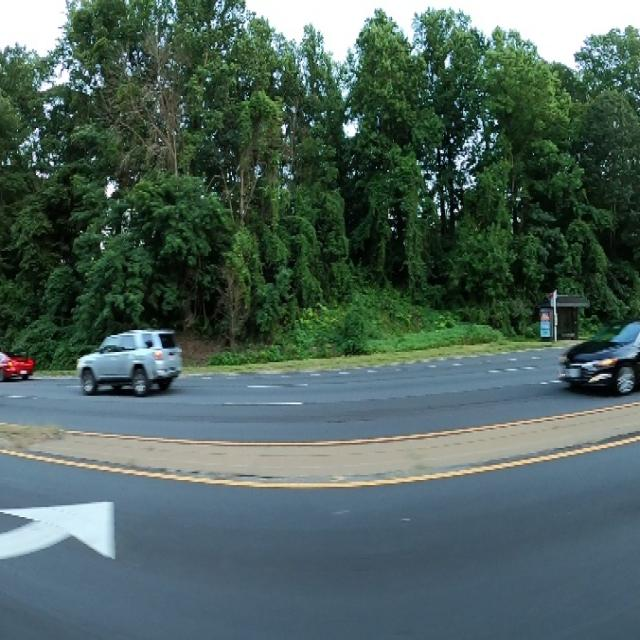cars: (75, 323, 185, 399), (563, 319, 640, 396), (0, 327, 36, 386)
